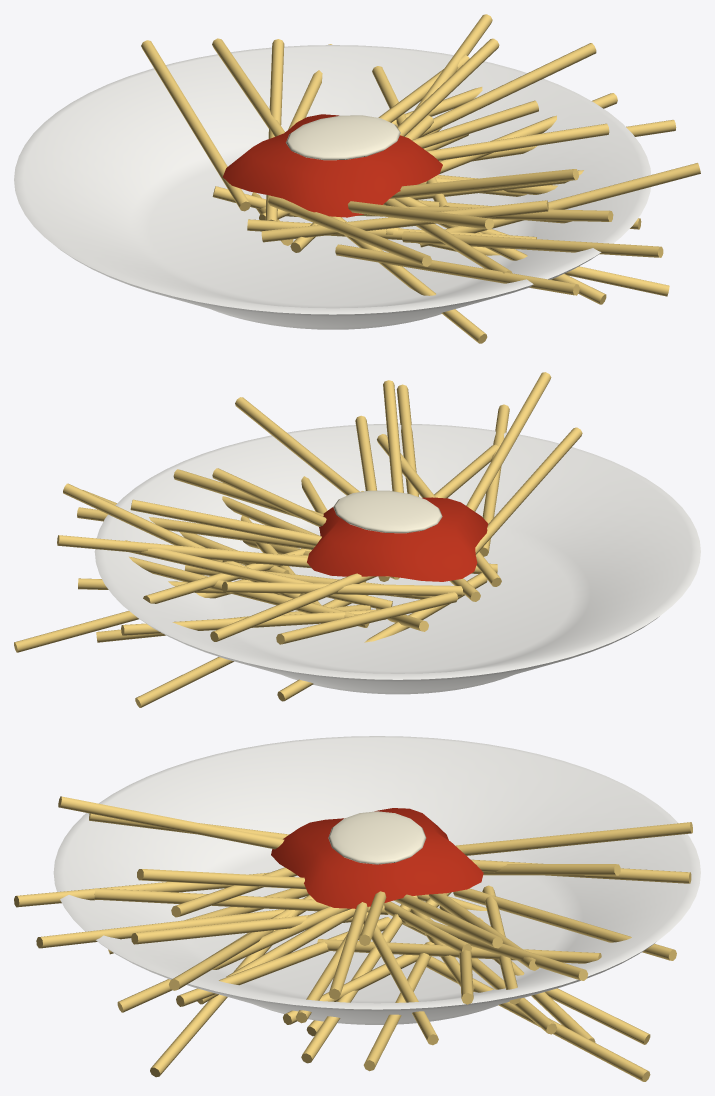
The model's file is massa.glb.
The picture shows the model from 3 angles, top to bottom: view 1: azimuth 30°, elevation 25°; view 2: azimuth 150°, elevation 25°; view 3: azimuth 270°, elevation 25°; orthographic projection. The views are drawn at different scales.
Parts seen in each view (by area): view 1: massa; view 2: massa; view 3: massa.
Boxes of the visible parts, box(x1,y1,x2,y2) form: massa: box(14, 14, 700, 343); massa: box(14, 372, 700, 707); massa: box(14, 736, 700, 1081).
Size of the model in its own units: 0.2939 by 0.0806 by 0.2802.
